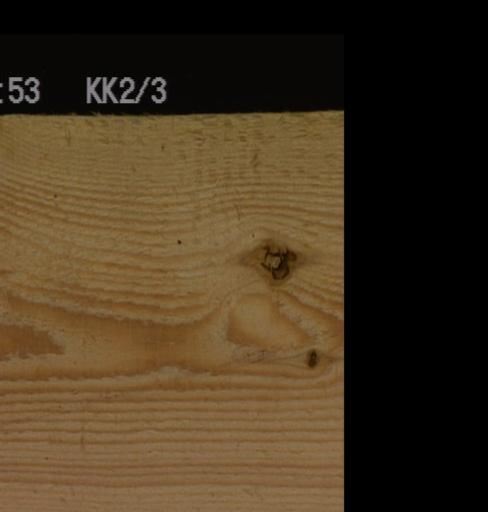dry_knot: (303, 347, 318, 368)
